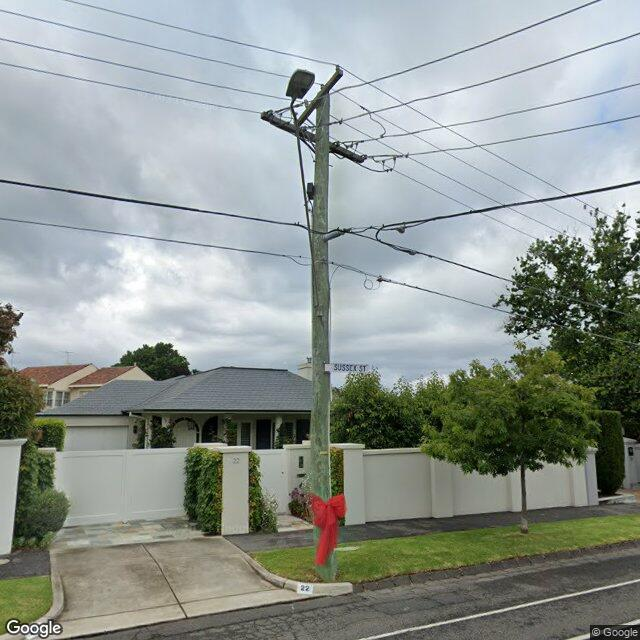crossarm: (260, 111, 364, 164), (294, 69, 343, 127)
streetlight: (286, 69, 315, 273)
timber-pole: (310, 91, 335, 582)
